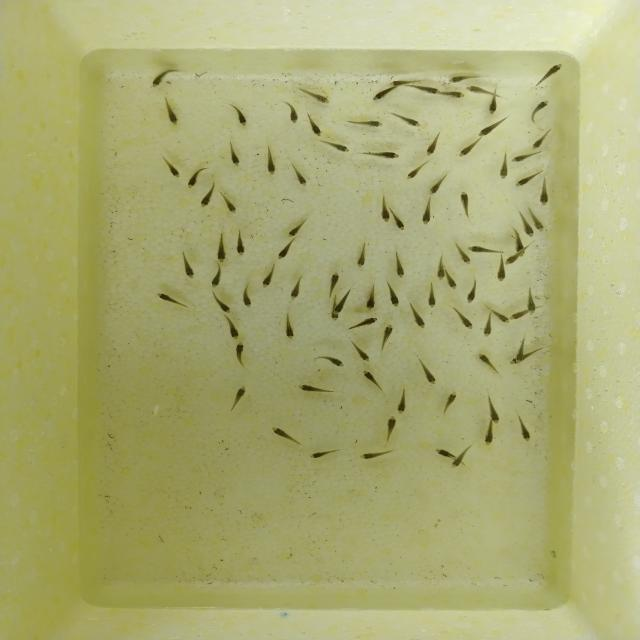fingerling: (154, 93, 184, 128), (153, 290, 195, 314), (218, 100, 252, 129), (285, 159, 316, 190), (295, 84, 333, 108), (419, 130, 449, 160), (532, 61, 564, 89), (267, 423, 305, 446), (154, 152, 183, 182), (356, 368, 388, 395), (226, 340, 254, 370), (223, 383, 250, 414), (144, 68, 182, 90), (315, 136, 356, 156), (455, 187, 479, 221), (216, 189, 242, 220), (259, 140, 279, 180), (277, 310, 300, 344), (301, 110, 331, 136), (380, 281, 406, 311), (386, 248, 411, 279), (358, 146, 406, 162), (282, 214, 314, 238), (221, 135, 244, 168), (359, 281, 382, 314), (512, 409, 534, 443), (218, 312, 244, 340), (388, 111, 426, 130), (527, 96, 551, 126), (348, 239, 372, 269), (177, 249, 200, 280), (284, 273, 307, 304), (438, 389, 461, 420), (477, 116, 509, 138), (405, 299, 427, 331), (305, 445, 349, 461), (475, 350, 502, 376), (456, 136, 484, 161), (342, 115, 383, 132), (294, 382, 343, 396), (376, 322, 398, 353), (380, 413, 400, 447), (206, 290, 234, 314), (402, 159, 432, 181), (422, 281, 444, 311), (182, 165, 208, 190), (448, 306, 474, 331), (424, 174, 452, 197), (281, 99, 303, 128), (509, 148, 544, 166), (232, 224, 250, 259), (342, 315, 384, 330), (274, 238, 300, 262), (259, 263, 280, 292), (417, 357, 437, 386), (311, 354, 345, 371), (510, 170, 538, 190), (321, 269, 343, 294), (357, 448, 396, 462), (535, 176, 552, 208), (214, 231, 231, 263), (237, 282, 256, 310), (528, 128, 552, 150), (418, 195, 434, 228), (349, 340, 373, 362), (376, 192, 392, 224), (430, 250, 447, 280), (466, 242, 504, 255), (464, 278, 481, 306), (478, 424, 497, 448), (487, 395, 502, 424), (209, 264, 225, 290), (396, 388, 412, 414), (442, 73, 483, 83), (498, 150, 510, 184), (479, 311, 493, 339), (493, 256, 506, 286), (410, 84, 441, 96), (369, 88, 392, 104), (197, 190, 214, 211), (466, 84, 494, 96), (432, 446, 453, 459), (527, 287, 537, 314), (440, 90, 466, 100), (487, 94, 499, 115), (393, 216, 407, 232), (332, 302, 348, 316), (522, 222, 535, 239), (445, 276, 460, 290), (504, 252, 519, 266), (495, 310, 509, 325), (508, 309, 526, 320), (460, 254, 474, 266), (386, 80, 406, 88), (534, 219, 545, 233), (514, 349, 523, 366), (449, 460, 460, 469)
